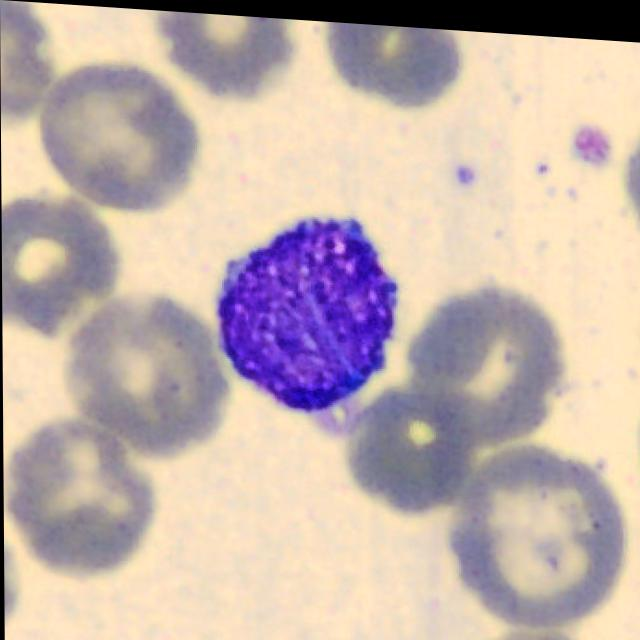Linfocito: (216, 213, 399, 408)
